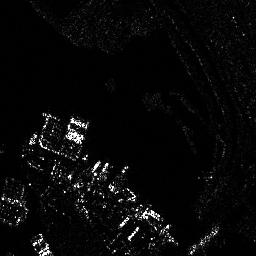ship: (185, 225, 221, 256)
